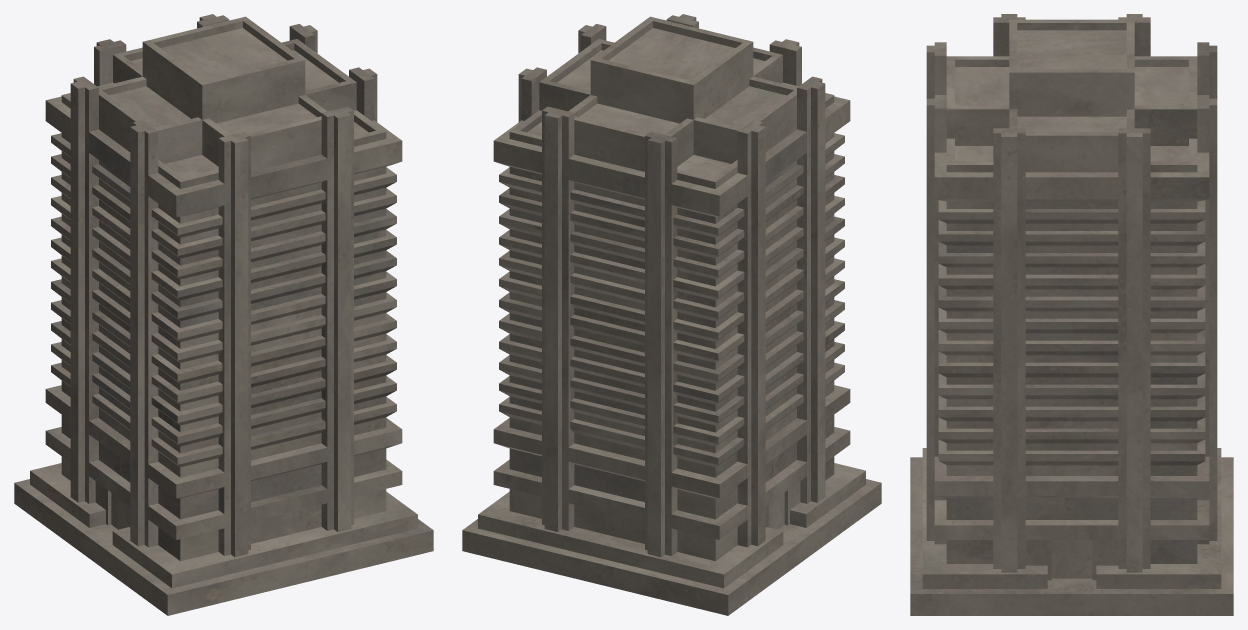
Rendered from Heavy_Commercial1-gray.fbx.
3 renders of one model, left to right at view 1: azimuth 30°, elevation 25°; view 2: azimuth 150°, elevation 25°; view 3: azimuth 270°, elevation 25°, orthographic. The views are drawn at different scales.
Parts seen in each view (by area): view 1: Heavy_Commercal_1; view 2: Heavy_Commercal_1; view 3: Heavy_Commercal_1.
Part boxes in pixels (x1=…): Heavy_Commercal_1: x1=14, y1=14, x2=433, y2=615; Heavy_Commercal_1: x1=462, y1=14, x2=881, y2=615; Heavy_Commercal_1: x1=910, y1=14, x2=1233, y2=615.
Size of the model in its own units: 4000 by 6850 by 4000.
1 material, 1 textured.
